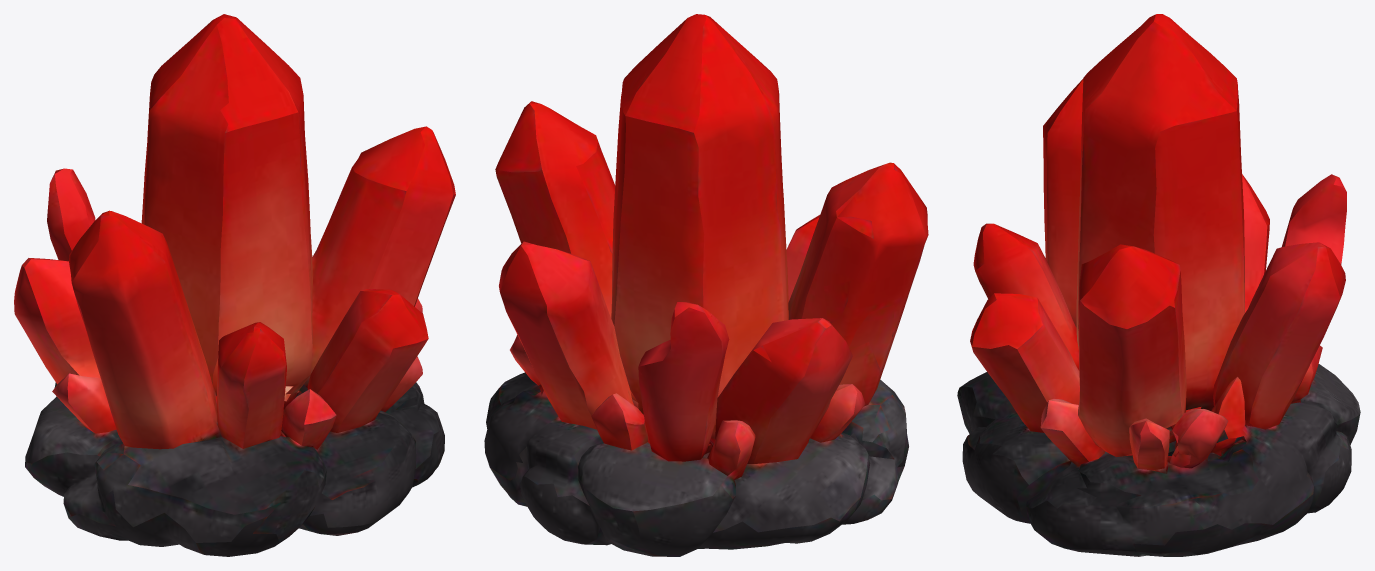
Rendered from a-cluster-of-red-and-orange-glow-947e56.glb.
The picture shows the model from 3 angles, left to right: view 1: azimuth 30°, elevation 25°; view 2: azimuth 150°, elevation 25°; view 3: azimuth 270°, elevation 25°; orthographic projection. The views are drawn at different scales.
Parts seen in each view (by area): view 1: geometry_0; view 2: geometry_0; view 3: geometry_0.
Part boxes in pixels (x1,y1,x2,y2): geometry_0: (14,14,455,556); geometry_0: (484,14,928,556); geometry_0: (957,14,1360,556).
Bounding box in the file's own units: 0.8965 × 1 × 0.7879.
Materials: 1 (1 with a texture image).
